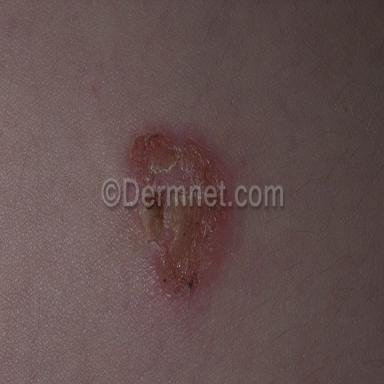Impetigo: (132, 207, 240, 303), (128, 131, 228, 183)
